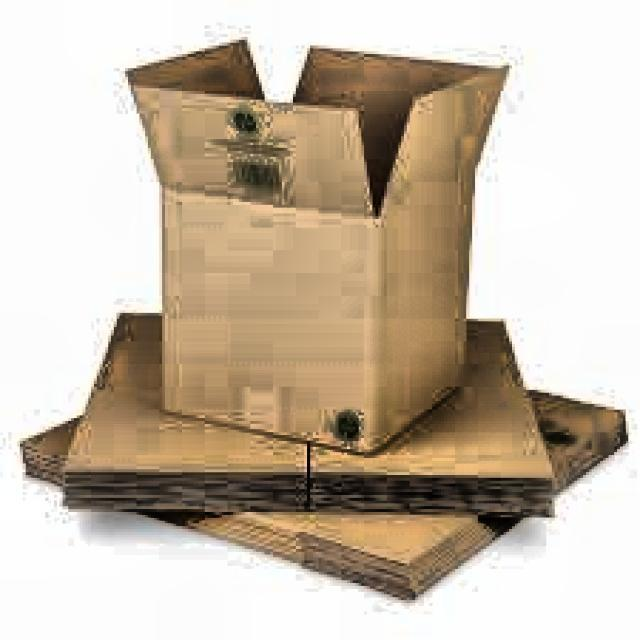cardboard: (122, 37, 509, 455)
